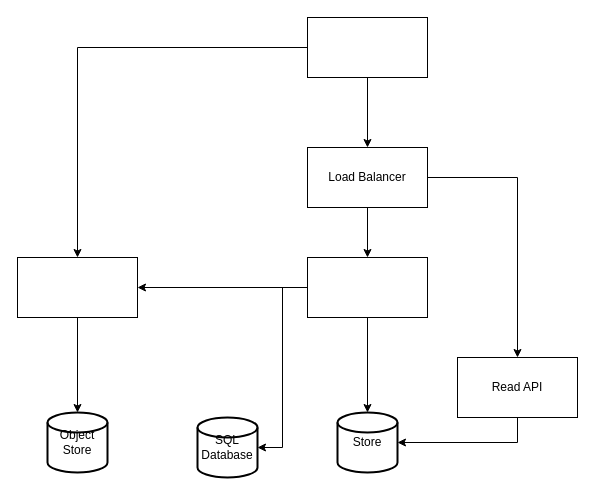
This 595x496 diagram has some shape labels left out. The centre of each missing label's shape, as x and y in pixels:
"Client" goes at point (367, 47).
"Has Claimed" goes at point (77, 287).
"Make Claim" goes at point (367, 287).
